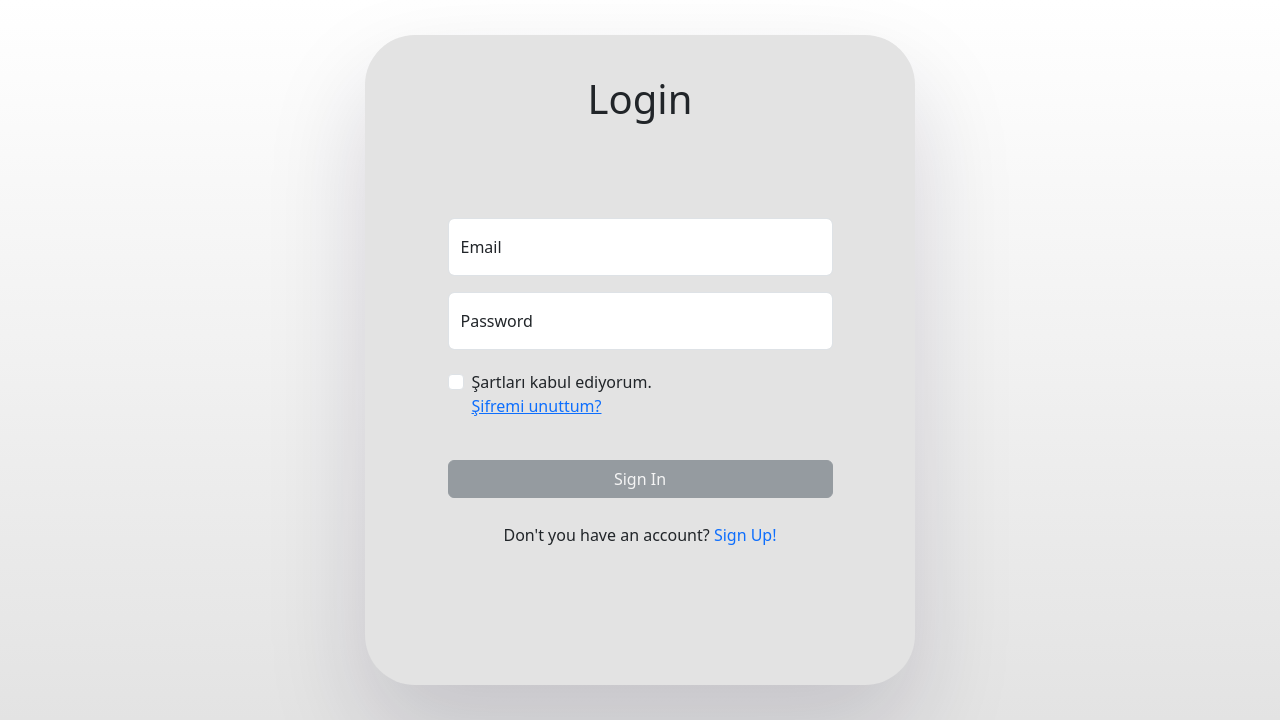
it: workintech study › email ve password yanlış
Type "wabalaba dub dub" into the field with test id "email-input" at [641, 247], box [448,218,833,276]
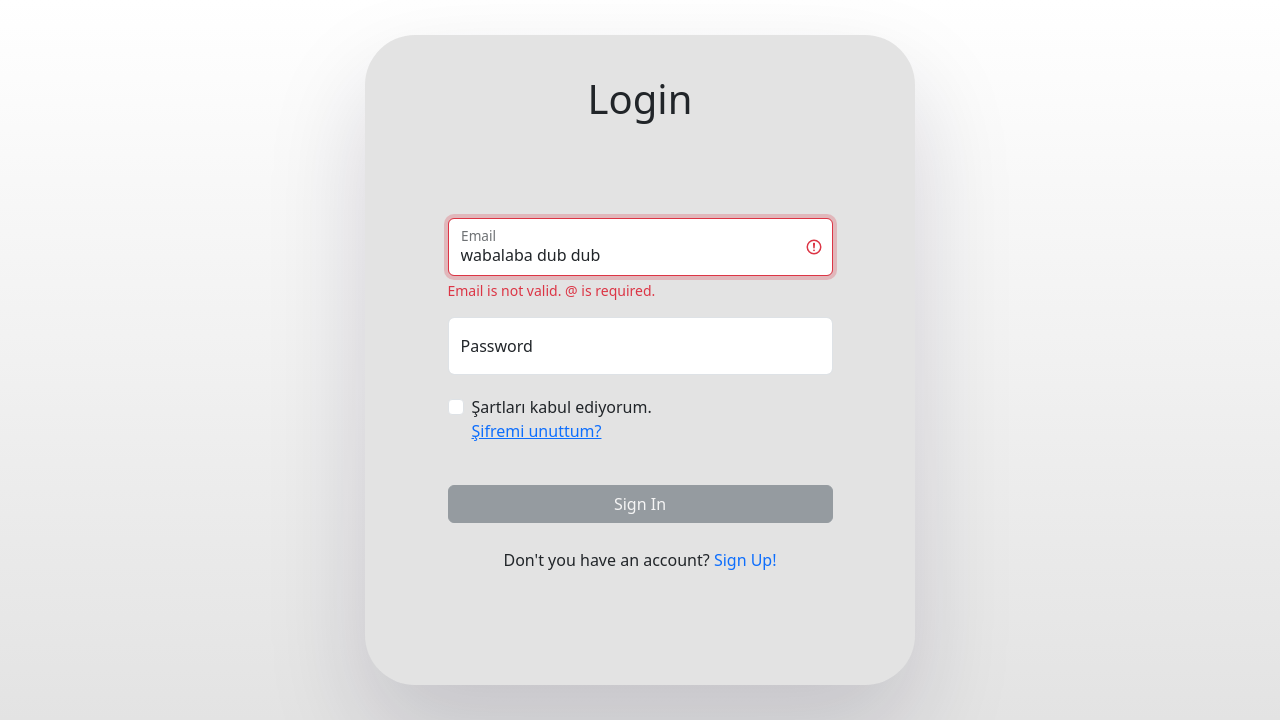
Type "123" into the password field with test id "password-input" at [641, 346], box [448,317,833,375]
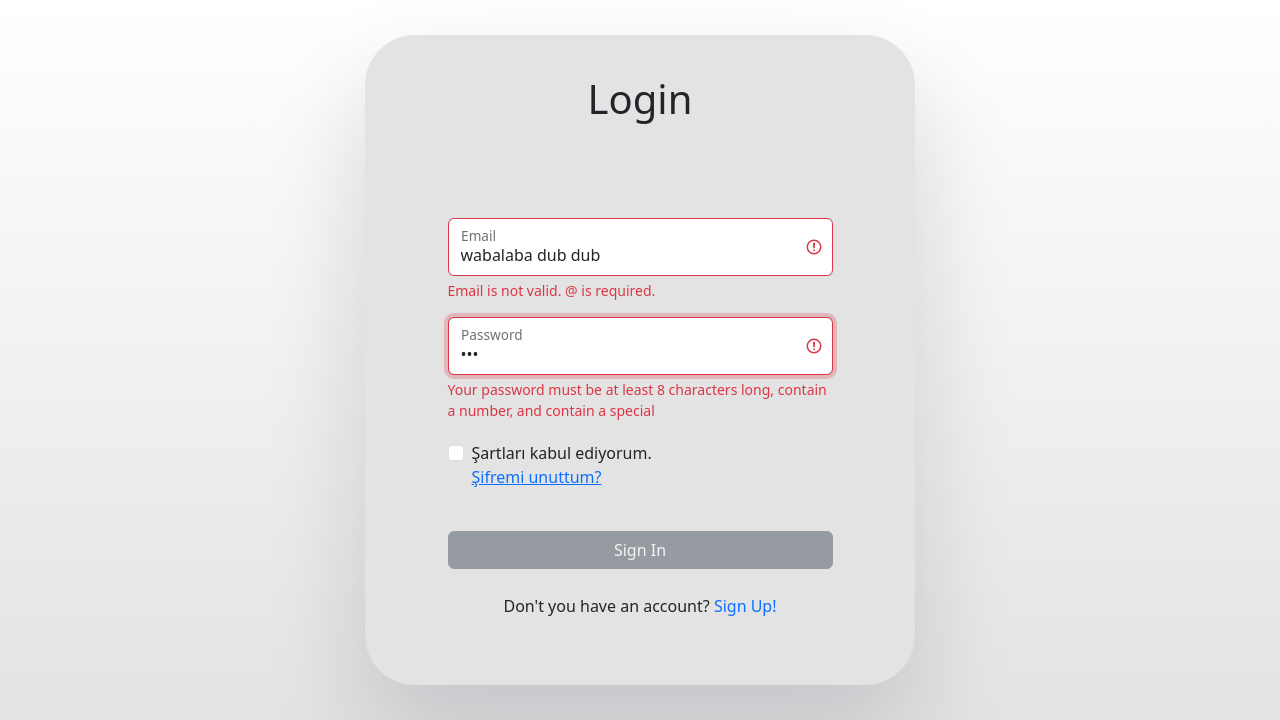
Now the number of elements with class "invalid-feedback" is 2, box [448,281,655,300]; [448,379,832,421]
